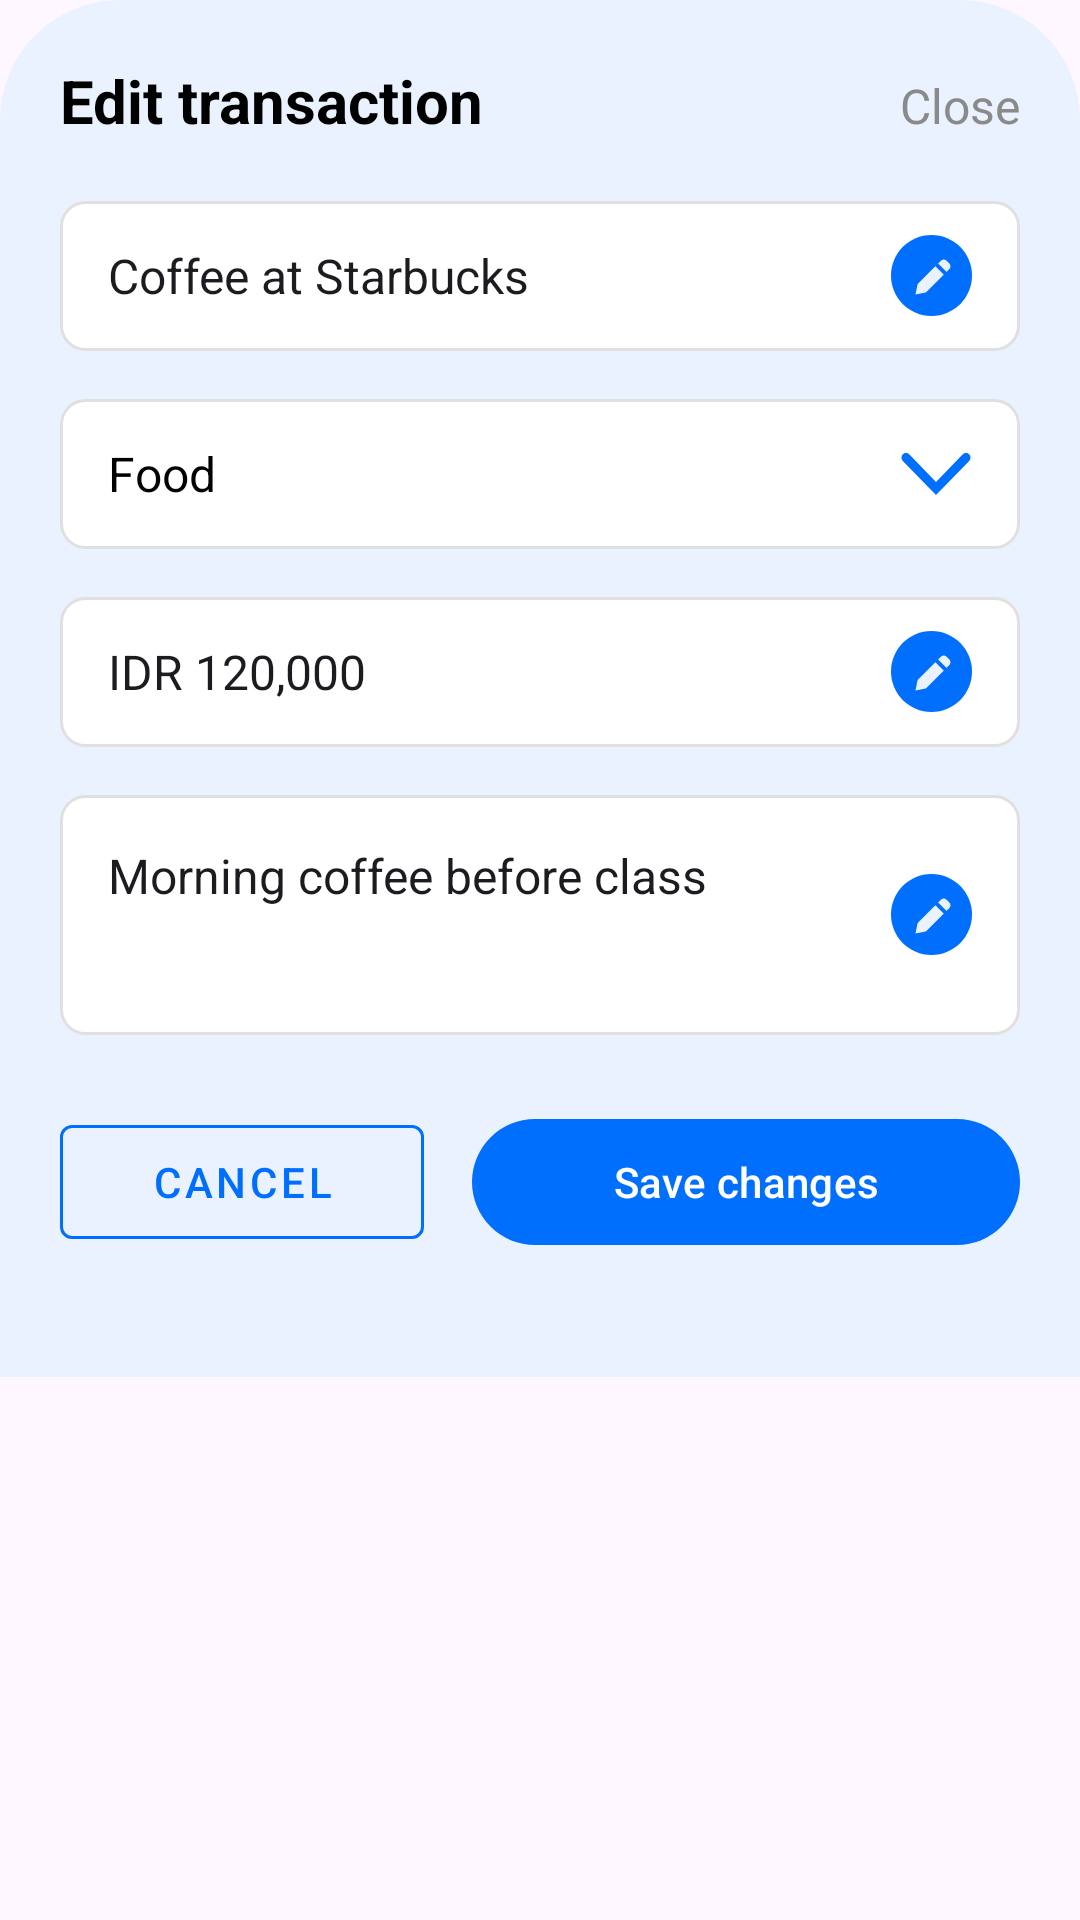

Point at icon controls on the screen. Image size 1080x1920, points as (x,y).
expand more: (936,474)
